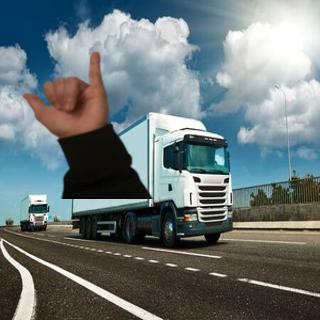HAVE: (15, 47, 112, 143)
